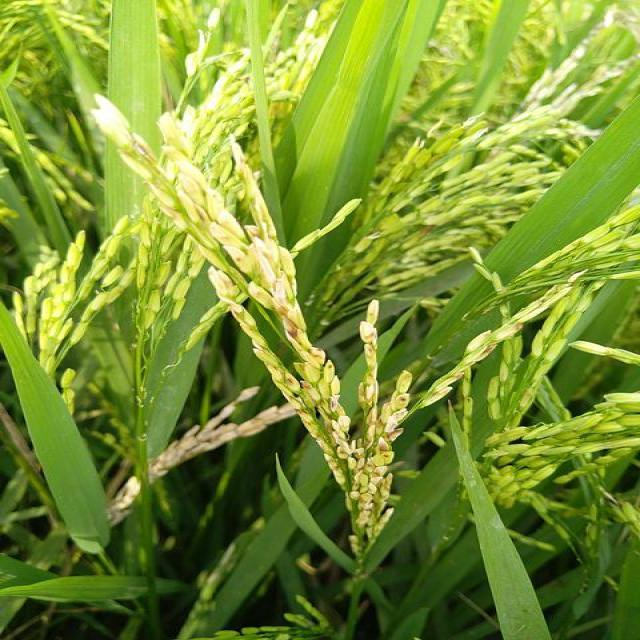Panicle Blight: (276, 303, 300, 339), (385, 416, 404, 443), (228, 303, 247, 322), (308, 346, 325, 362), (324, 359, 337, 377), (329, 394, 341, 413), (377, 437, 391, 452), (293, 408, 312, 418), (285, 374, 297, 386), (397, 394, 409, 404), (301, 381, 313, 391), (261, 344, 268, 358), (233, 256, 245, 264), (359, 495, 367, 506), (375, 467, 381, 475), (272, 365, 279, 371)
